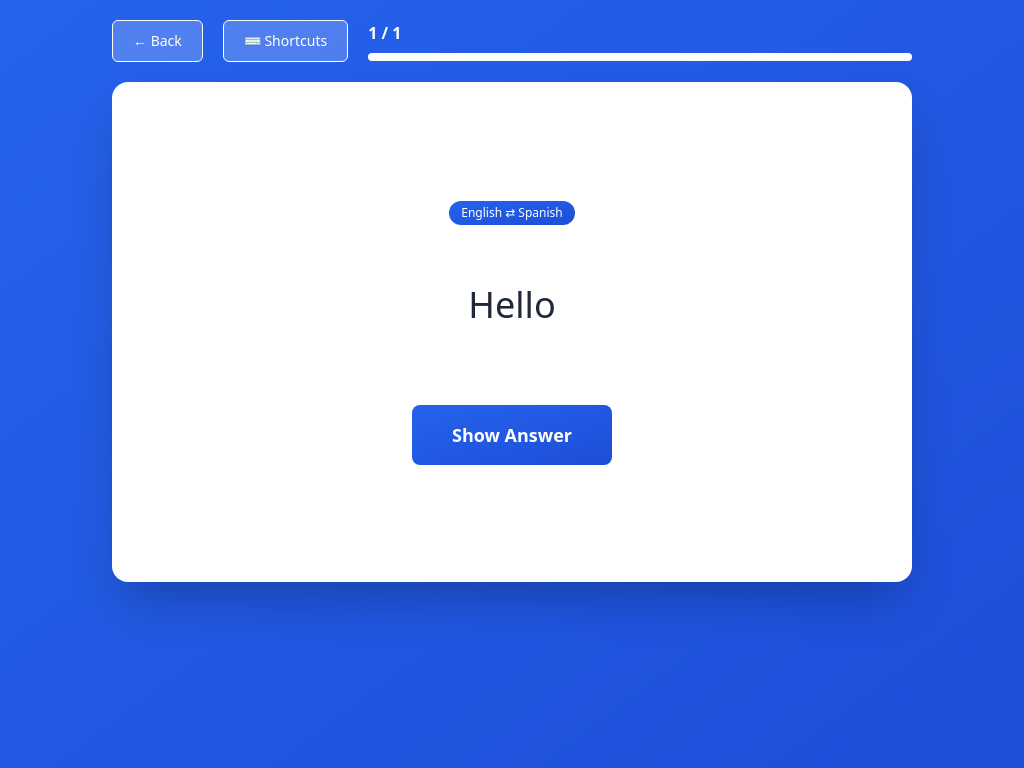
Test case: Review Component › should close keyboard help modal when clicking "Got it!" button
expect the heading "Hello" is shown: met, box [468,280,556,329]
Press ?
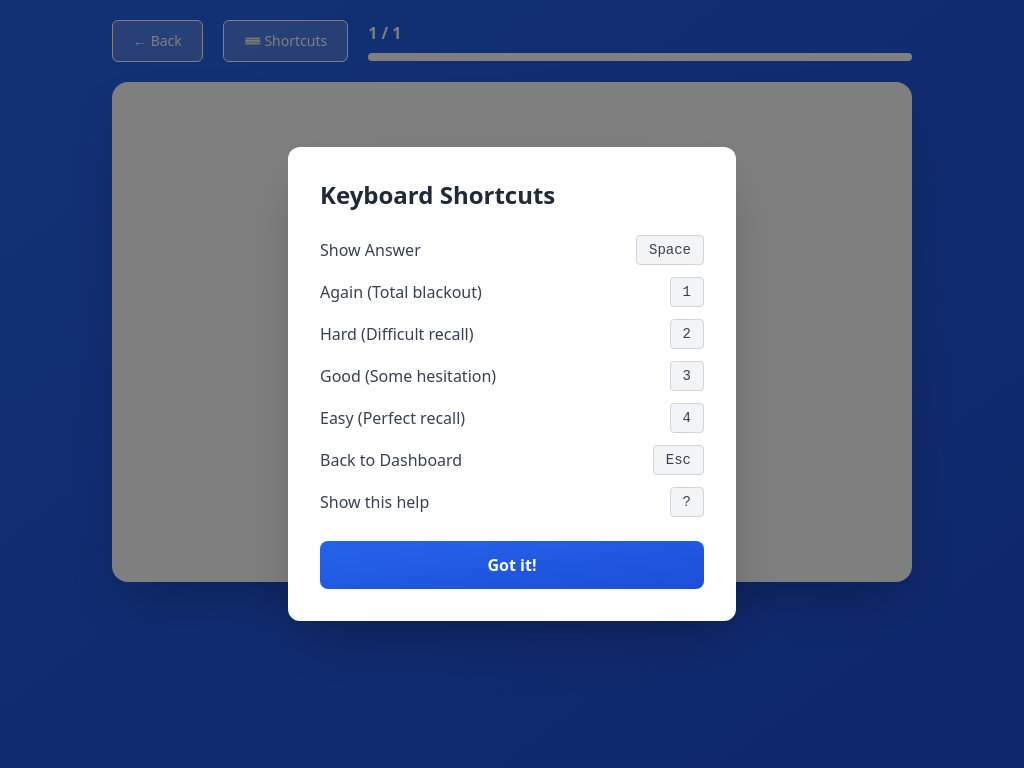
expect the heading "Keyboard Shortcuts" is shown: met, box [320,178,555,211]
Click the button "Got it!" at (512, 565), box [320,541,704,589]
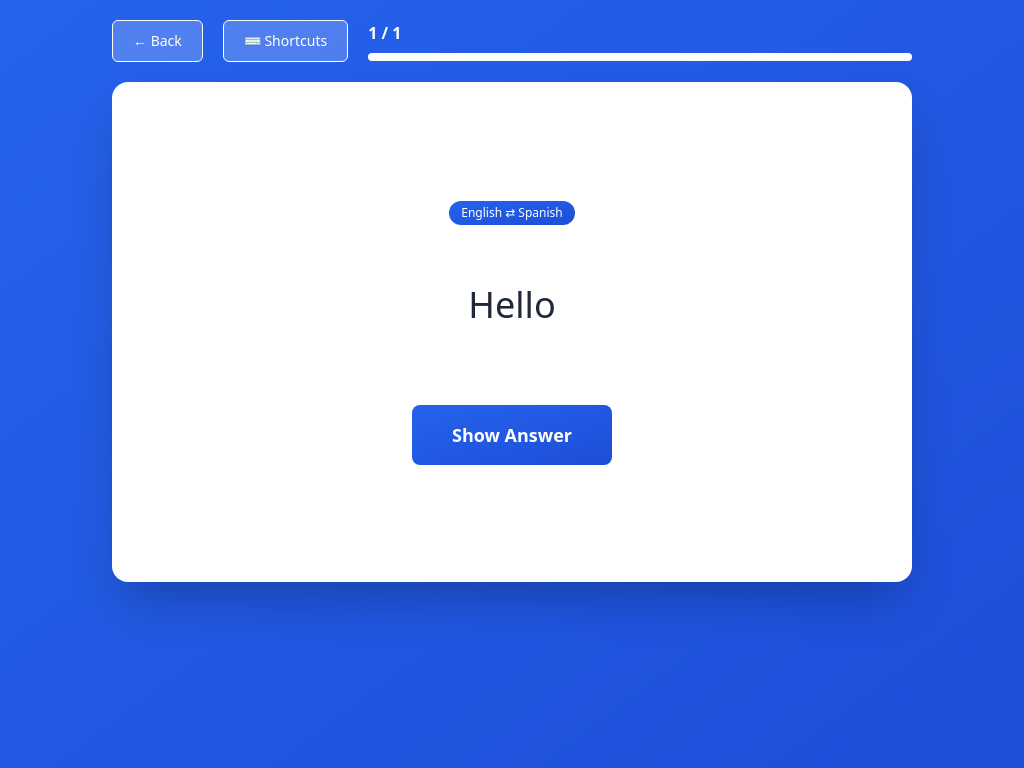
expect the button "Keyboard Shortcuts" is gone: met
